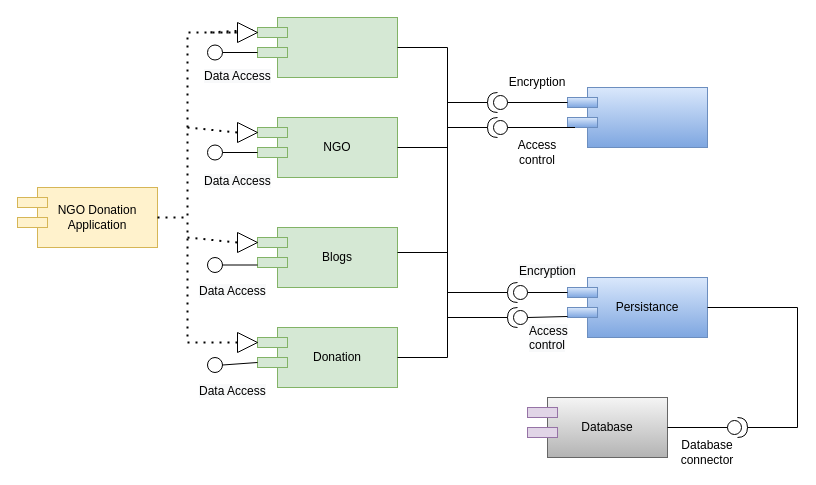
Some shapes in this 816 by 485 pixel diagram are drawn without their labels. The box of each missing label's shape, as (x1, y1, x2, y2) in pixels:
Security: (586, 86, 708, 148)
User: (276, 16, 398, 78)
